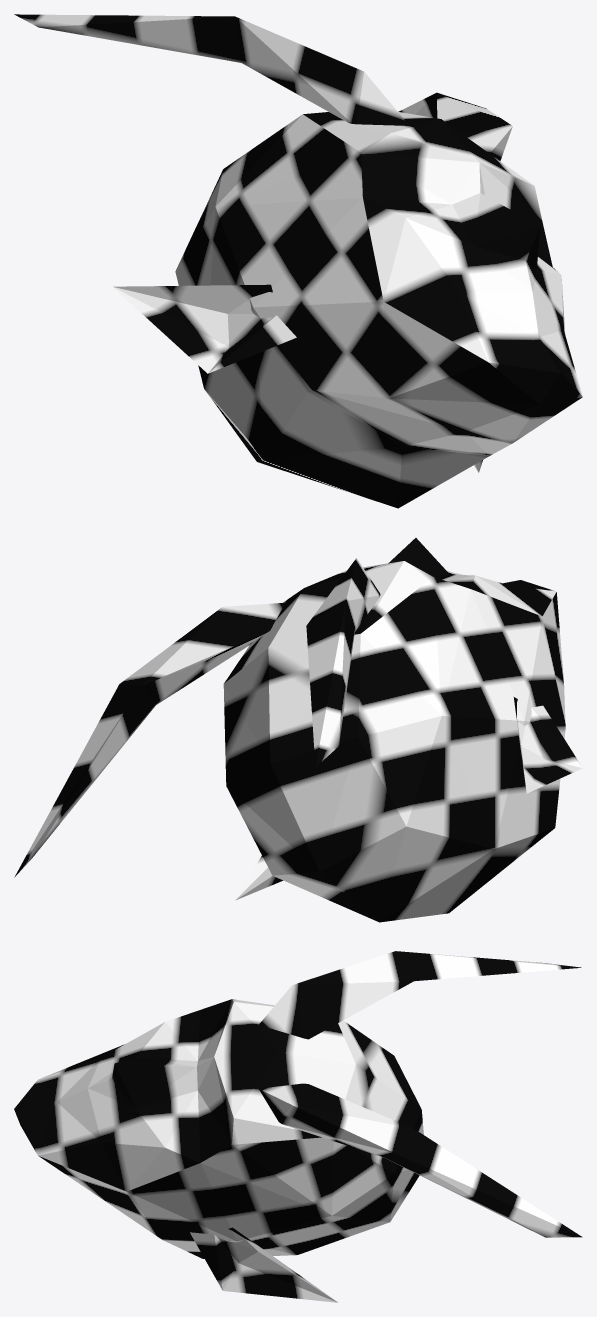
File: initlitr35.dae
The picture shows the model from 3 angles, top to bottom: view 1: azimuth 30°, elevation 25°; view 2: azimuth 150°, elevation 25°; view 3: azimuth 270°, elevation 25°; orthographic projection. The views are drawn at different scales.
Visible parts, largest first — view 1: item; view 2: item; view 3: item.
Boxes of the visible parts, x1,y1,x2,y2 form: item: (14, 14, 582, 508); item: (14, 538, 582, 922); item: (14, 951, 582, 1302).
Bounding box in the file's own units: 0.9947 × 1.62 × 0.9302.
Materials: 1 (1 with a texture image).
